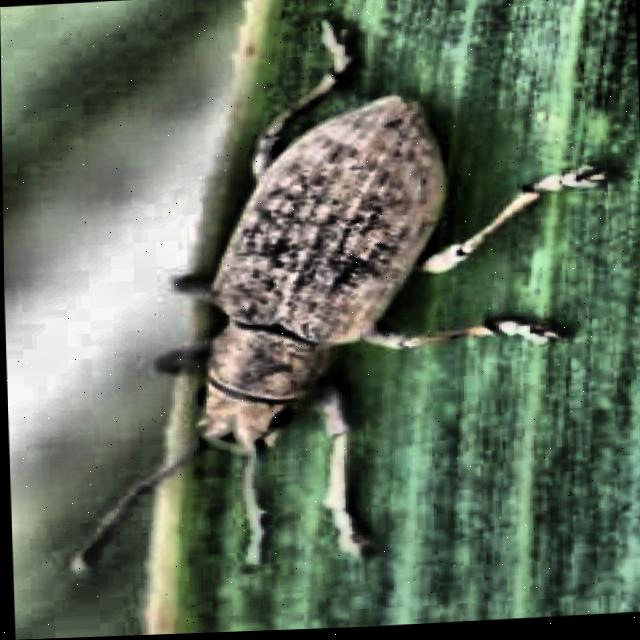Stink bug: (92, 23, 518, 522)
